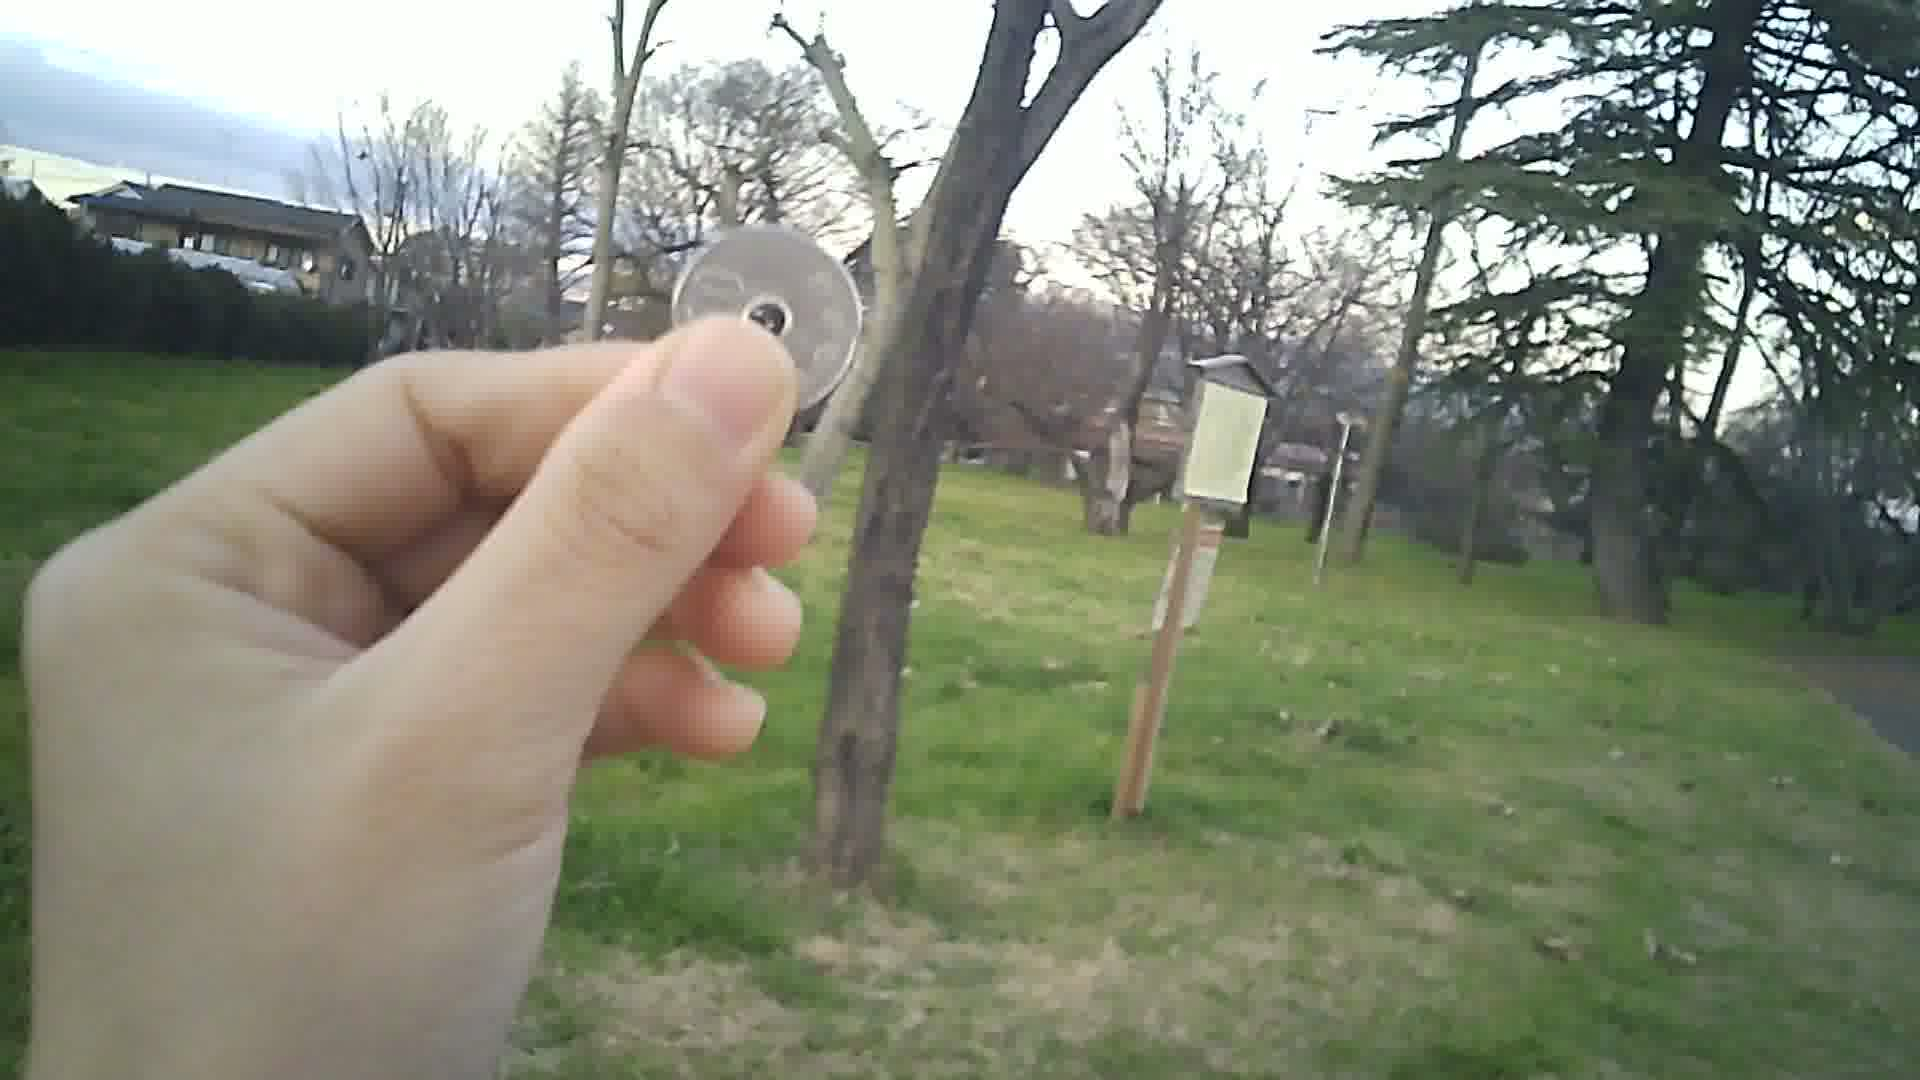50 Yen: (665, 219, 858, 409)
